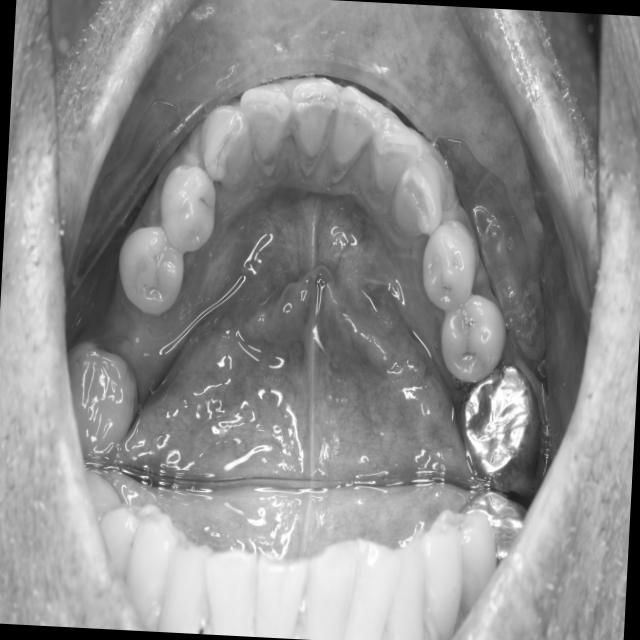tooth: (449, 352, 552, 504), (61, 329, 147, 469), (408, 206, 486, 324), (435, 285, 516, 396), (280, 60, 347, 193), (112, 218, 191, 319), (193, 96, 268, 201), (326, 72, 385, 193), (233, 82, 301, 184), (365, 104, 422, 224), (159, 156, 223, 259), (394, 147, 451, 248)
